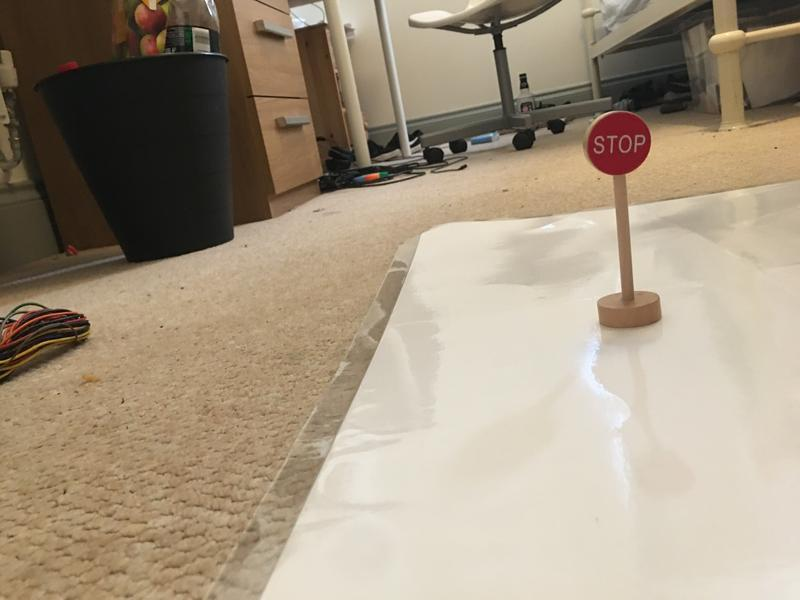Traffic_Sign_Stop: (585, 111, 650, 176)
